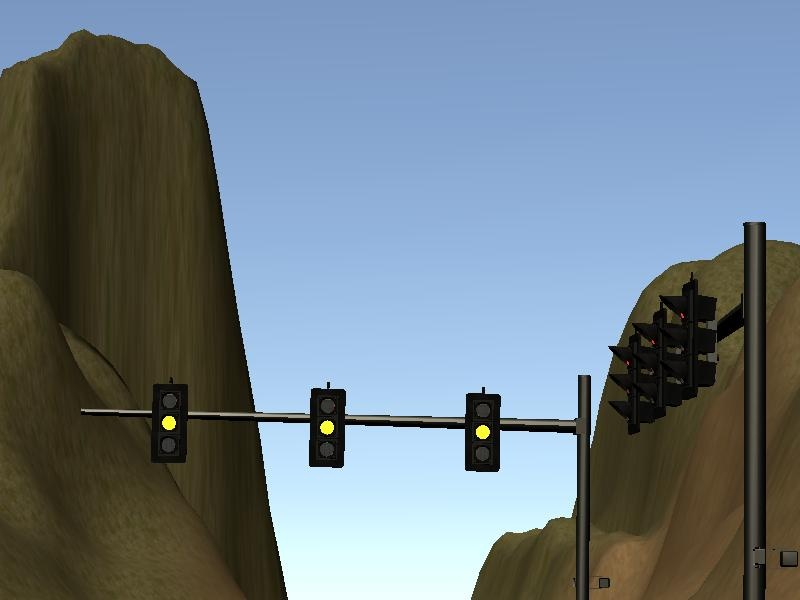YELLOW: (151, 380, 191, 466), (306, 384, 346, 470), (462, 389, 502, 475)
